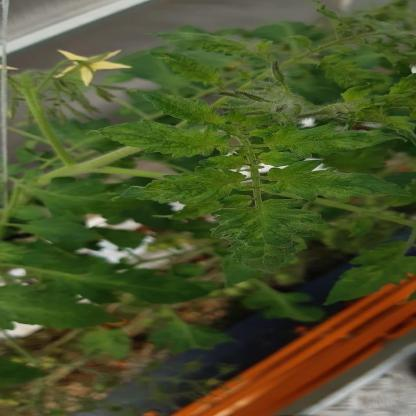T_L_R: (212, 200, 325, 271), (267, 161, 411, 201), (100, 120, 230, 158), (120, 168, 244, 205), (265, 125, 397, 157)
